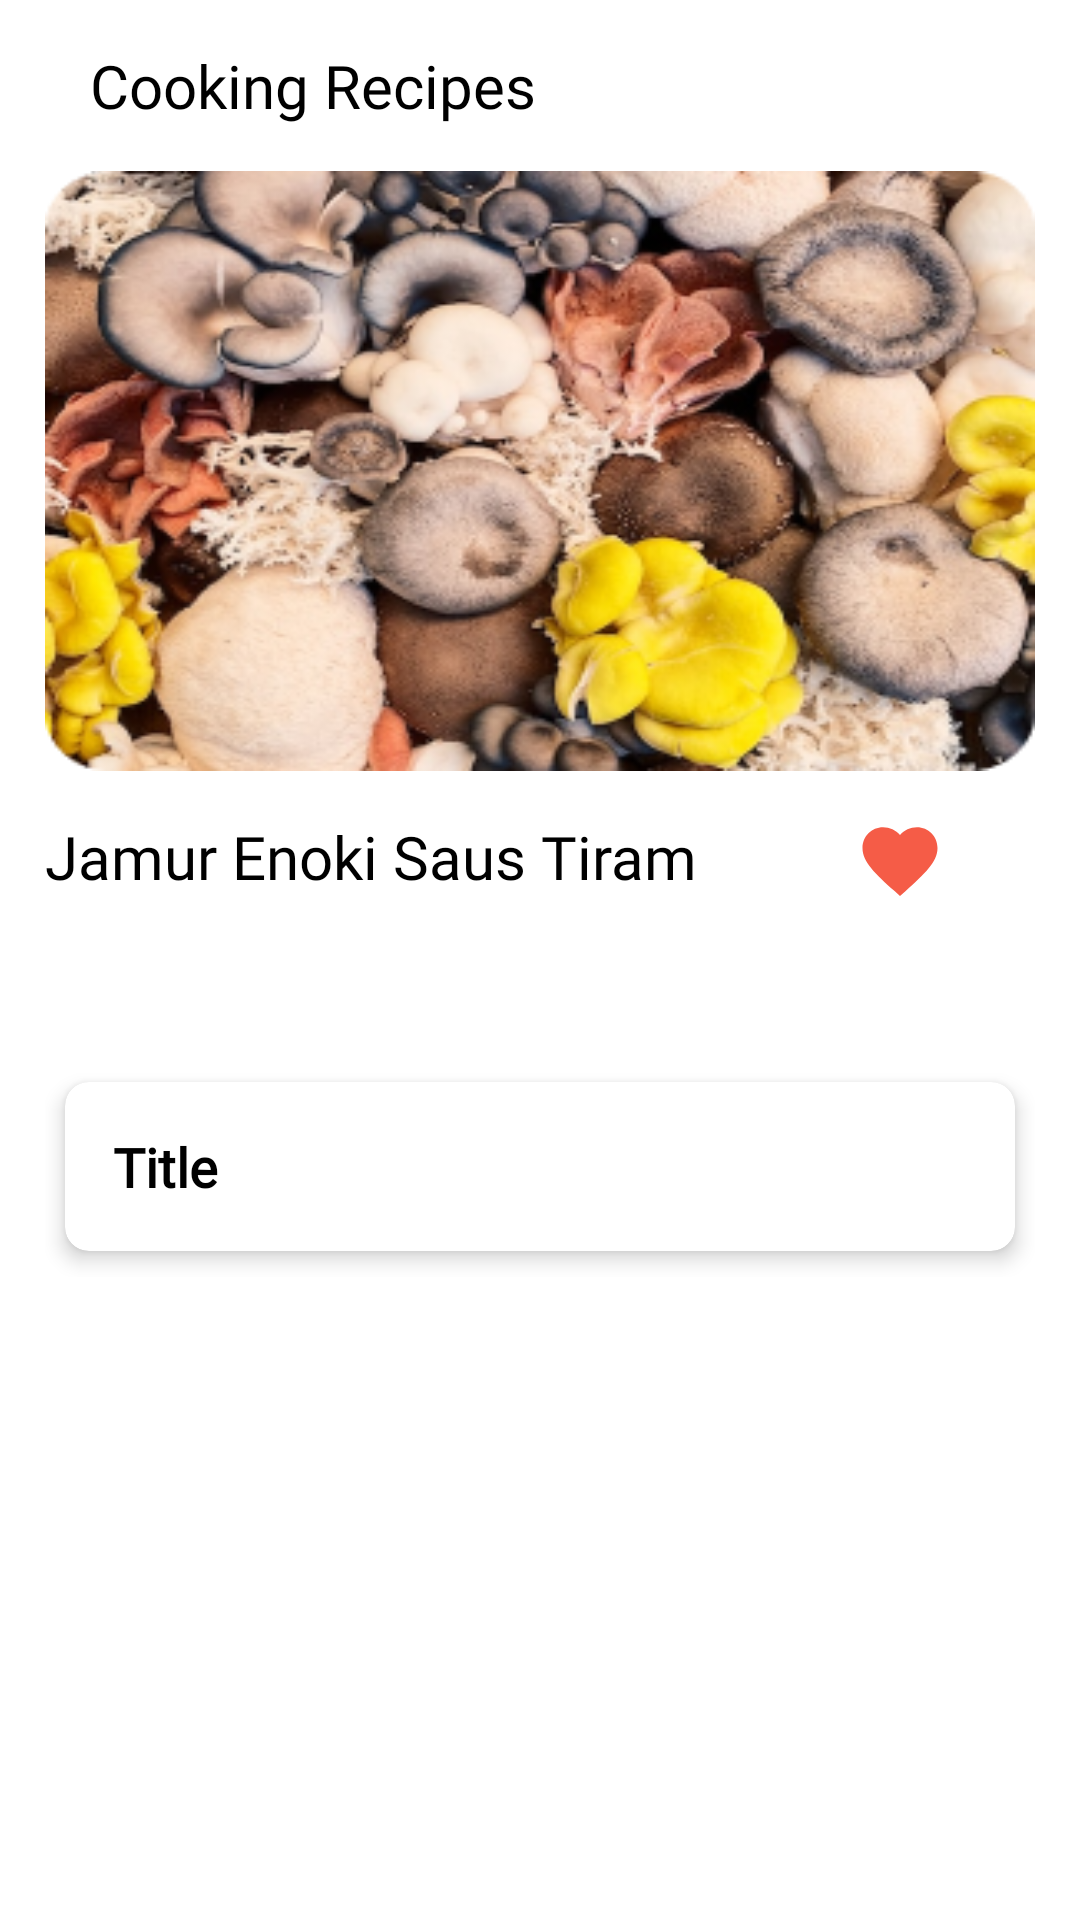

Icon click points for this 1080 x 1920 phone screenshot, format [x,y]:
favorite: [900,861]
